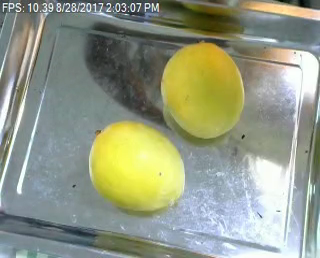Mango: (150, 41, 254, 143), (84, 122, 190, 213)
